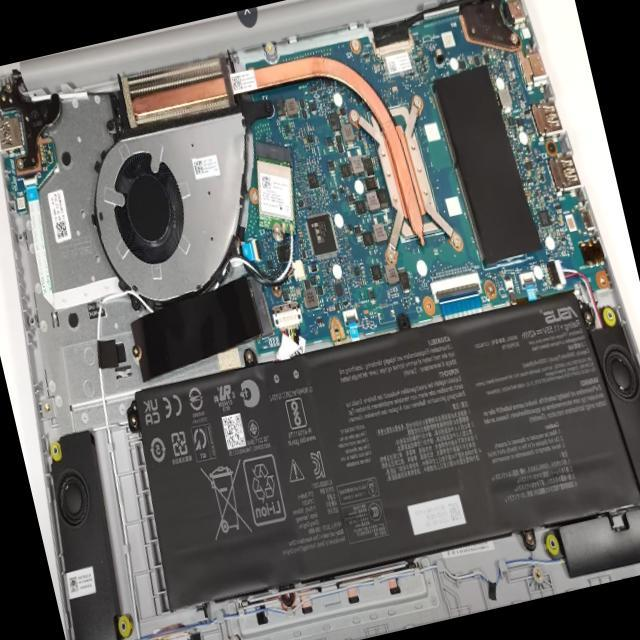Battery: (123, 271, 276, 384)
RAM: (117, 286, 640, 608)
